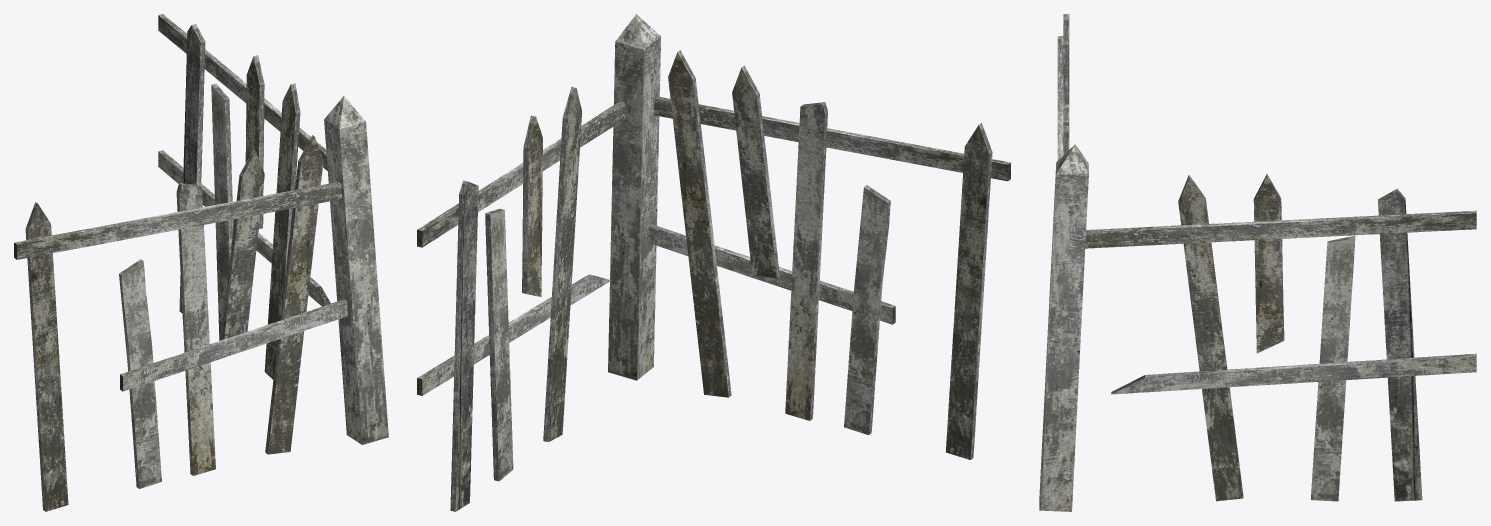
The model's file is CornOut01.FBX.
3 renders of one model, left to right at view 1: azimuth 30°, elevation 25°; view 2: azimuth 150°, elevation 25°; view 3: azimuth 270°, elevation 25°, orthographic. The views are drawn at different scales.
Parts seen in each view (by area): view 1: FencePickBurntCorOut01:0; view 2: FencePickBurntCorOut01:0; view 3: FencePickBurntCorOut01:0.
Part boxes in pixels (bbox=[...]): FencePickBurntCorOut01:0: bbox=[14, 14, 388, 511]; FencePickBurntCorOut01:0: bbox=[417, 14, 1010, 511]; FencePickBurntCorOut01:0: bbox=[1039, 14, 1476, 511].
Size of the model in its own units: 1.36 by 1.21 by 1.35.
